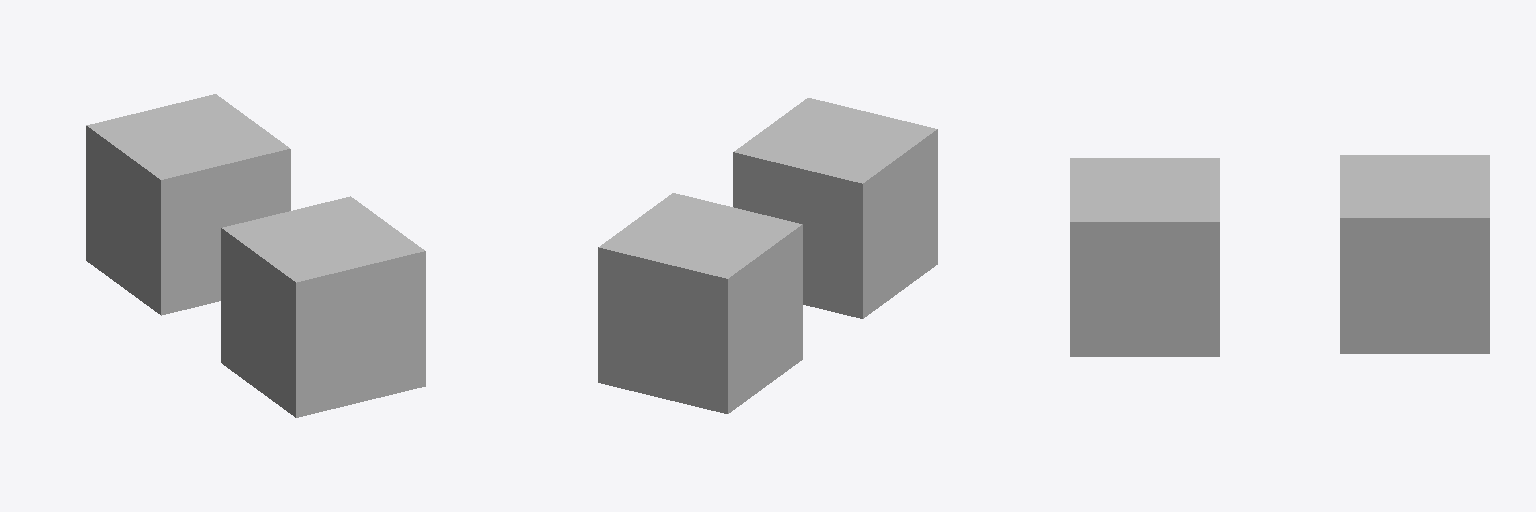
Rendered from cubeZone.obj.
3 renders of one model, left to right at view 1: azimuth 30°, elevation 25°; view 2: azimuth 150°, elevation 25°; view 3: azimuth 270°, elevation 25°, orthographic.
Visible parts, largest first — view 1: Cube, Cube.001; view 2: Cube.001, Cube; view 3: Cube.001, Cube.
Boxes of the visible parts, x1,y1,x2,y2 form: Cube: [221, 196, 425, 417]; Cube.001: [86, 94, 290, 315]; Cube.001: [598, 193, 802, 413]; Cube: [733, 98, 937, 318]; Cube.001: [1340, 155, 1489, 353]; Cube: [1070, 158, 1219, 356].
Bounding box in the file's own units: 2 × 2.05 × 5.61.